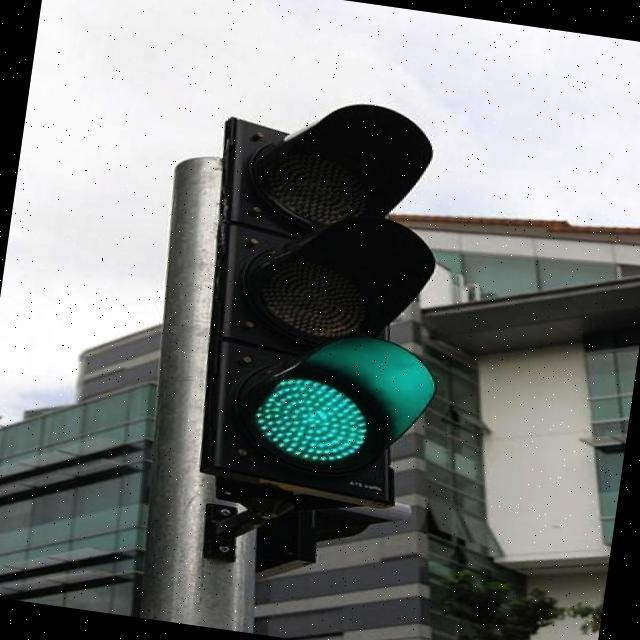Zielone swiatlo: (178, 80, 450, 512)
